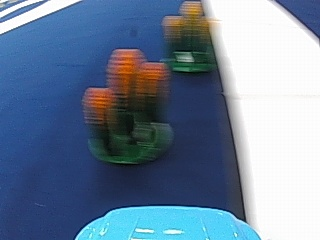corn: (83, 44, 174, 167), (162, 0, 212, 73)
